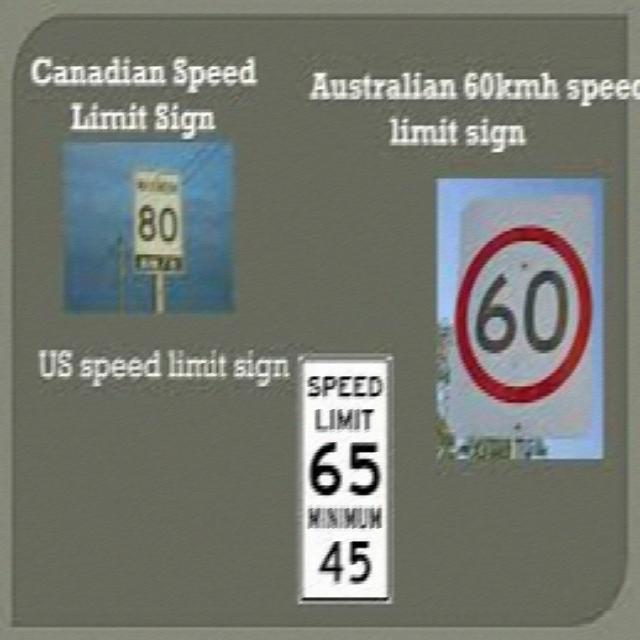speedLimit65: (296, 354, 396, 612)
